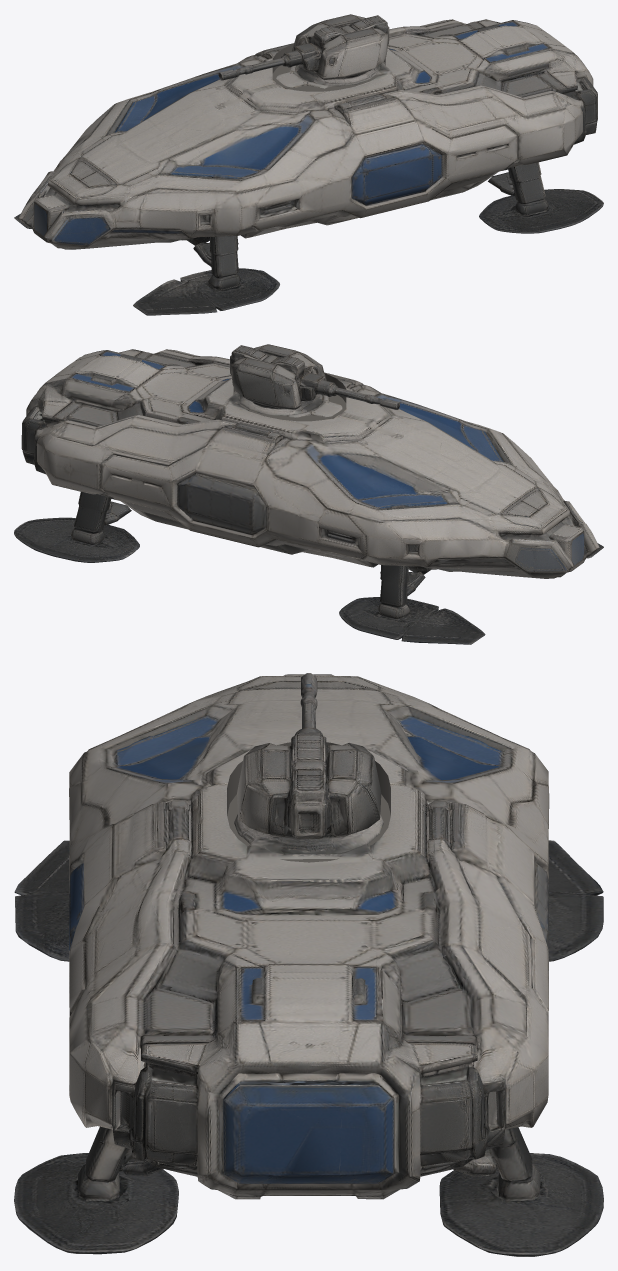
Rendered from hydrofoil.glb.
The picture shows the model from 3 angles, top to bottom: view 1: azimuth 30°, elevation 25°; view 2: azimuth 150°, elevation 25°; view 3: azimuth 270°, elevation 25°; orthographic projection. The views are drawn at different scales.
Visible parts, largest first — view 1: Hull, Turret; view 2: Hull, Turret; view 3: Hull, Turret.
Boxes of the visible parts, x1=… form: Hull: x1=14, y1=19, x2=603, y2=315; Turret: x1=218, y1=14, x2=392, y2=88; Hull: x1=14, y1=349, x2=603, y2=644; Turret: x1=226, y1=344, x2=399, y2=417; Hull: x1=14, y1=674, x2=603, y2=1256; Turret: x1=227, y1=673, x2=390, y2=859.
Bounding box in the file's own units: 2 × 0.6372 × 1.04.
1 material, 1 textured.
